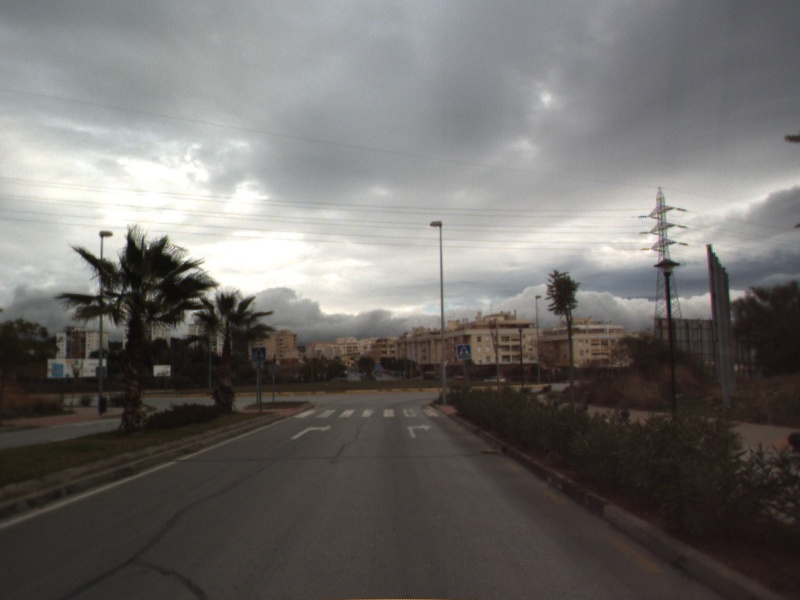RIGHT: (289, 422, 334, 441), (405, 421, 433, 440)
